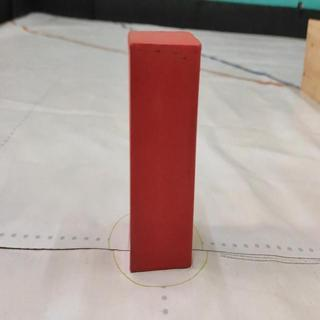redbox: (127, 29, 202, 273)
